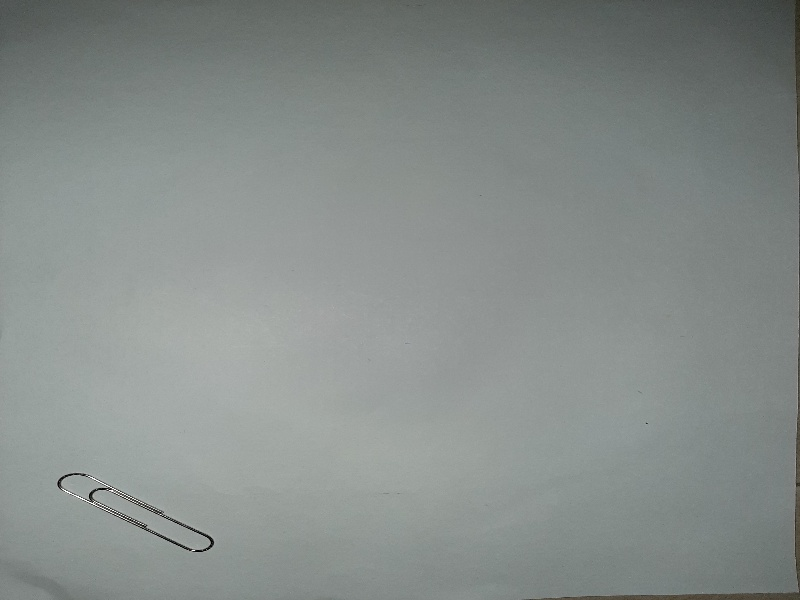Big Jumpclip: (54, 466, 219, 560)
